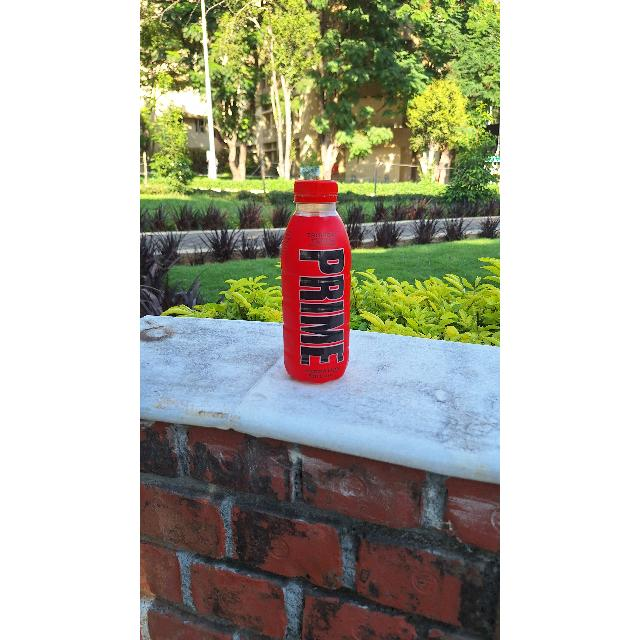Prime - Shitass: (280, 183, 352, 385)
